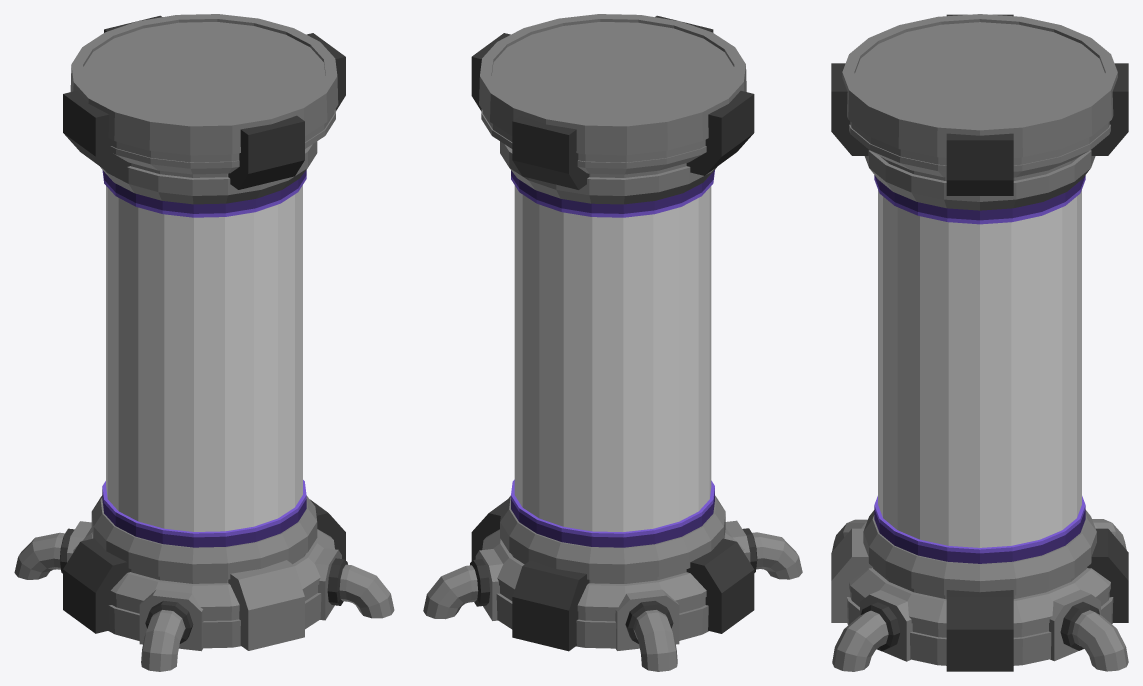
File: Pod.fbx
The picture shows the model from 3 angles, left to right: view 1: azimuth 30°, elevation 25°; view 2: azimuth 150°, elevation 25°; view 3: azimuth 270°, elevation 25°; orthographic projection. The views are drawn at different scales.
Visible parts, largest first — view 1: Props_Pod.001; view 2: Props_Pod.001; view 3: Props_Pod.001.
Boxes of the visible parts, x1=… form: Props_Pod.001: x1=14, y1=14, x2=394, y2=671; Props_Pod.001: x1=423, y1=14, x2=802, y2=671; Props_Pod.001: x1=831, y1=14, x2=1128, y2=671.
Bounding box in the file's own units: 1.81 × 3.61 × 1.81.
